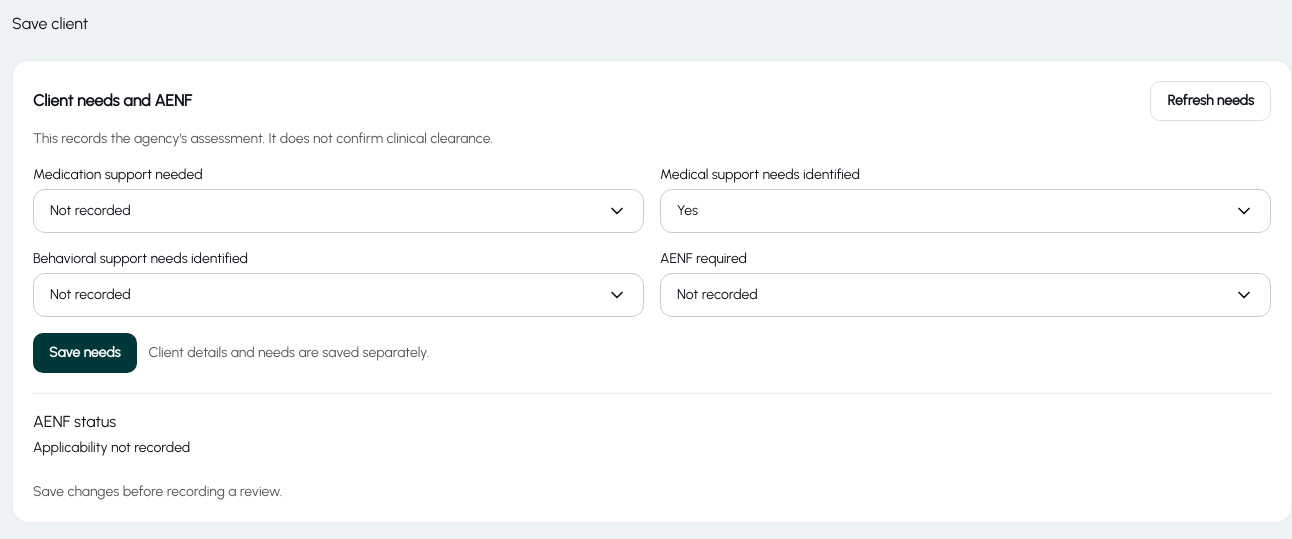
Scenario: client needs › ignores a save response after changing clients and leaves ordinary Save available
The image size is (1292, 539).
Earlier steps of the test are not shown.
Later steps or results of the test are not shown.
Click the button "Save needs": (85, 353) [33,333,137,373]
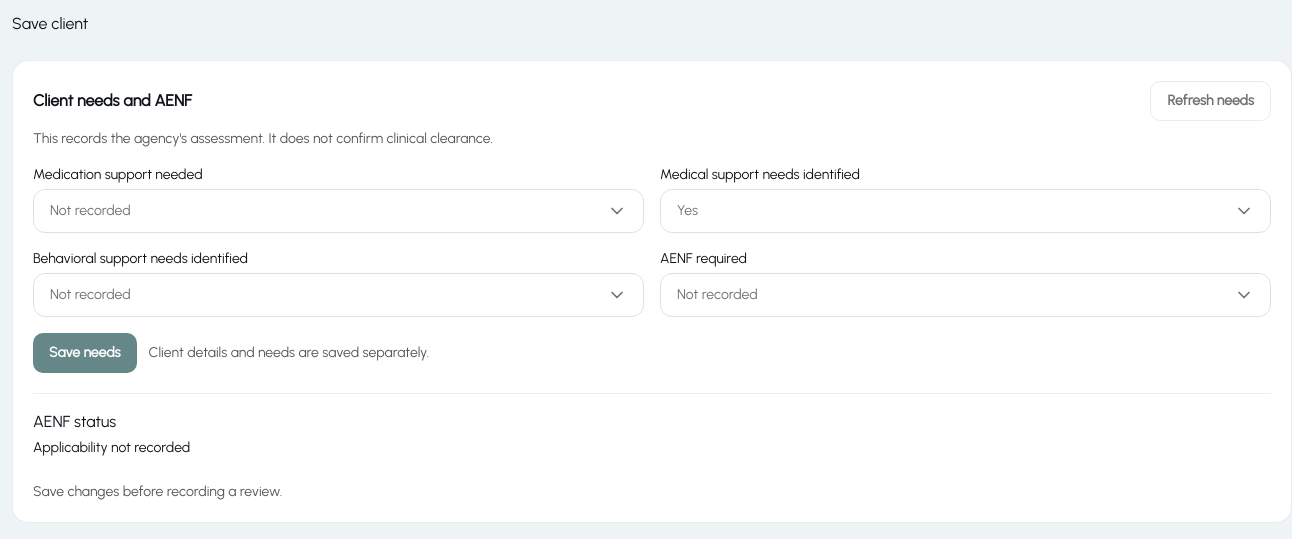
Expected: the button "Save client" is enabled, [12,12,88,36]
Expected: the button "Save needs" is disabled, [33,333,137,373]
